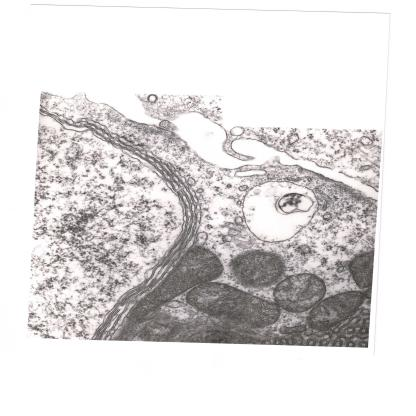mitochondria: (129, 244, 225, 319), (185, 283, 281, 330), (274, 272, 327, 314), (308, 290, 366, 328), (230, 250, 284, 287), (277, 324, 307, 334)
